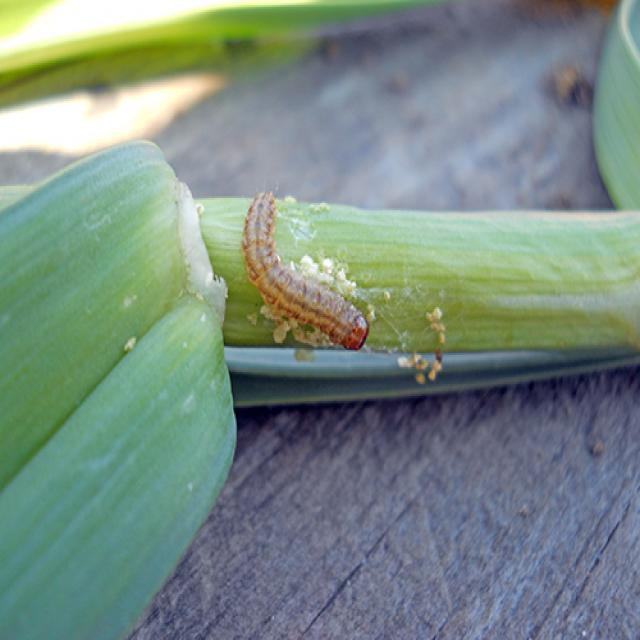cornborer-Larva-: (232, 179, 393, 366)
